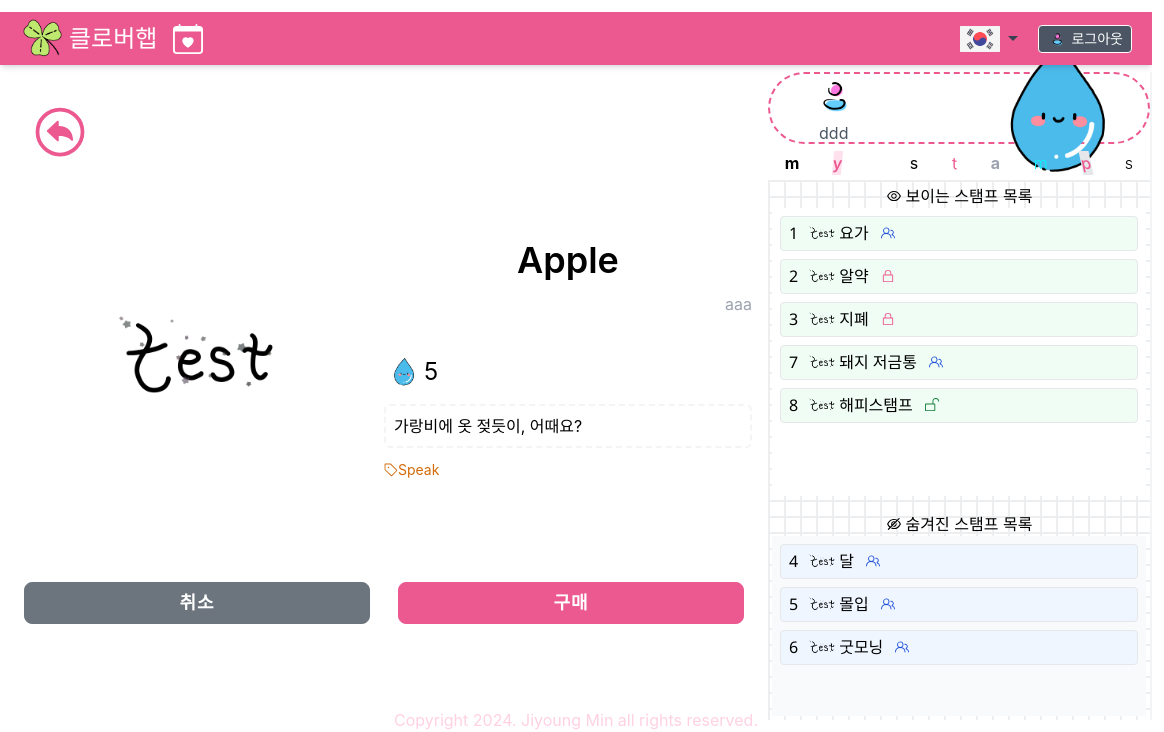
Test: Download Page › 소비자 › 구입 버튼(성공)
Expected: the element with id "displayUserStampList" does not show "Apple"
Step 1. Click the button with id "downloadStamp-purchaseButton" → (571, 603), box [398, 582, 744, 624]
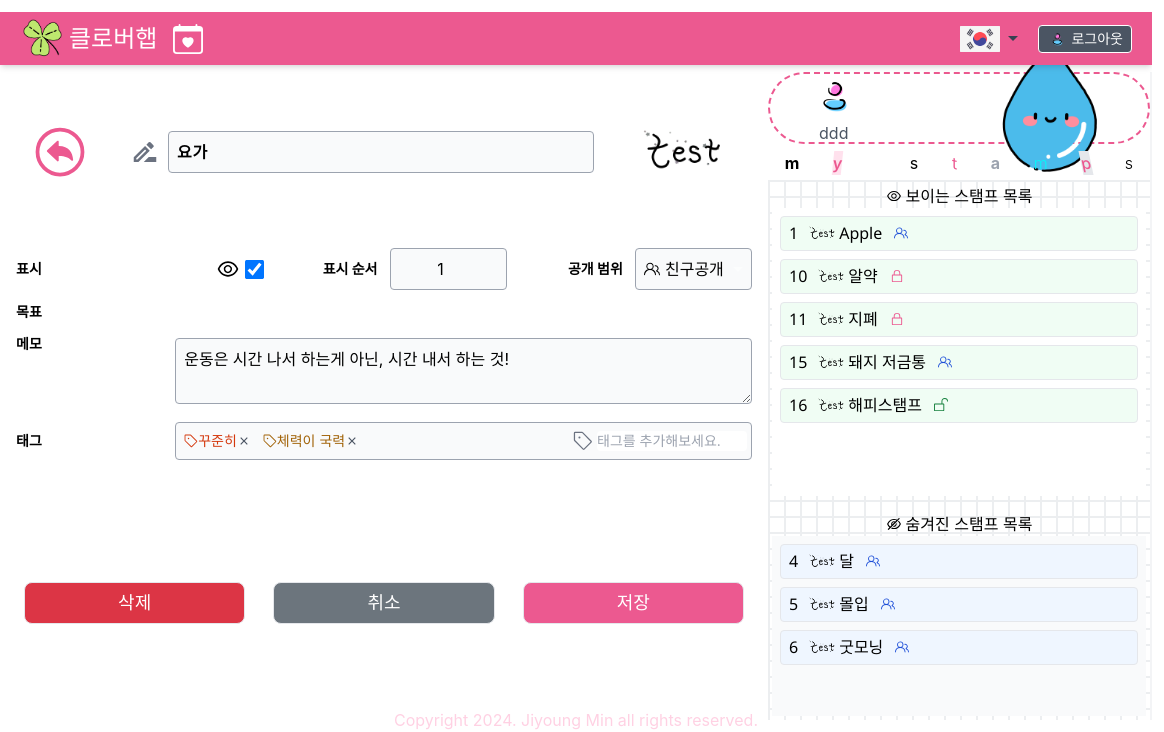
Expected: the element with id "displayUserStampList" shows "Apple", [772, 208, 1146, 496]
